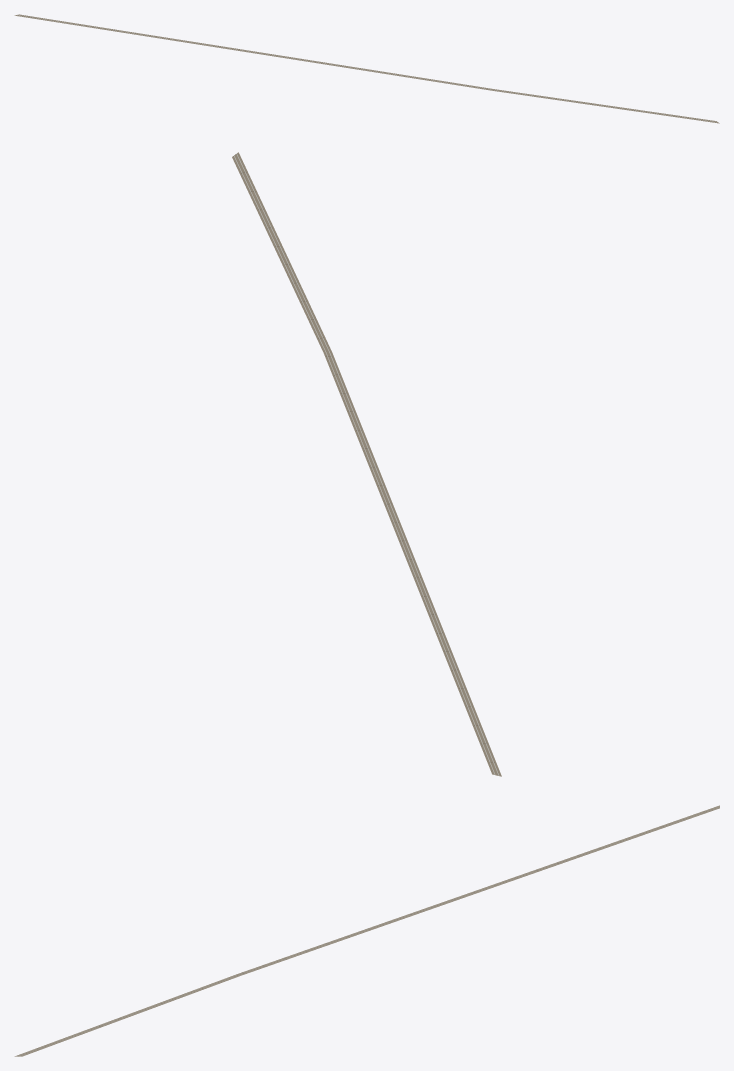
3 renders of one model, top to bottom at view 1: azimuth 30°, elevation 25°; view 2: azimuth 150°, elevation 25°; view 3: azimuth 270°, elevation 25°, orthographic. The views are drawn at different scales.
Visible parts, largest first — view 1: rail; view 2: rail; view 3: rail.
Boxes of the visible parts, x1=… form: rail: x1=14, y1=14, x2=719, y2=123; rail: x1=232, y1=152, x2=501, y2=776; rail: x1=14, y1=805, x2=719, y2=1056.
Bounding box in the file's own units: 393 × 0.04 × 467.
